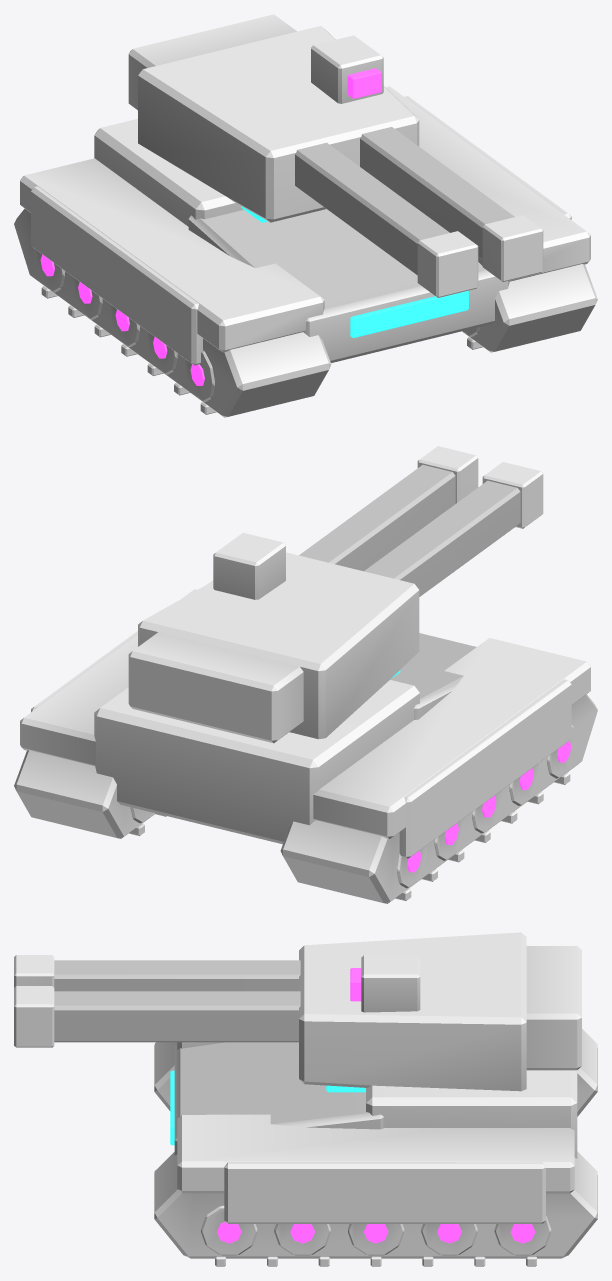
File: e2_siege_tank.glb
3 renders of one model, top to bottom at view 1: azimuth 30°, elevation 25°; view 2: azimuth 150°, elevation 25°; view 3: azimuth 270°, elevation 25°, orthographic. The views are drawn at different scales.
Visible parts, largest first — view 1: TurretBody, Track_L_Fender, HullGlacis, SideSkirt_-1, Track_L_Belt, RailShroud_-0.2, RailShroud_0.2, Track_R_Fender, Track_R_Belt, HullRear, TurretBustle, RailMuzzle_0.2 (+10 smaller); view 2: HullRear, TurretBody, Track_L_Fender, TurretBustle, SideSkirt_-1, Track_L_Belt, RailShroud_-0.2, RailShroud_0.2, Track_R_Belt, Track_R_Fender, TurretSensor, HullGlacis (+4 smaller); view 3: TurretBody, SideSkirt_1, Track_R_Fender, RailShroud_0.2, HullGlacis, Track_R_Belt, HullRear, RailShroud_-0.2, TurretBustle, TurretSensor, RailMuzzle_0.2, Track_L_Belt (+6 smaller).
Boxes of the visible parts, box(x1,y1,x2,y2) form: TurretBody: box(138, 26, 419, 222); Track_L_Fender: box(20, 158, 324, 352); HullGlacis: box(188, 209, 509, 362); SideSkirt_-1: box(31, 186, 202, 365); Track_L_Belt: box(14, 208, 331, 417); RailShroud_-0.2: box(295, 142, 449, 275); RailShroud_0.2: box(360, 127, 514, 259); Track_R_Fender: box(386, 86, 590, 281); Track_R_Belt: box(462, 264, 597, 352); HullRear: box(94, 119, 243, 226); TurretBustle: box(128, 14, 296, 110); RailMuzzle_0.2: box(482, 215, 543, 281); HullRear: box(94, 680, 419, 844); TurretBody: box(138, 552, 419, 739); Track_L_Fender: box(313, 638, 590, 839); TurretBustle: box(128, 632, 303, 743); SideSkirt_-1: box(399, 679, 571, 858); Track_L_Belt: box(280, 694, 597, 903); RailShroud_-0.2: box(364, 480, 520, 596); RailShroud_0.2: box(299, 465, 455, 571); Track_R_Belt: box(14, 750, 155, 838); Track_R_Fender: box(20, 580, 213, 765); TurretSensor: box(213, 532, 285, 599); HullGlacis: box(390, 633, 476, 719); TurretBody: box(299, 932, 526, 1091); SideSkirt_1: box(224, 1162, 545, 1223); Track_R_Fender: box(177, 1114, 574, 1193); RailShroud_0.2: box(54, 991, 300, 1042); HullGlacis: box(174, 1042, 384, 1155); Track_R_Belt: box(154, 1151, 597, 1258); HullRear: box(366, 1070, 577, 1158); RailShroud_-0.2: box(54, 960, 300, 991); TurretBustle: box(526, 946, 581, 1070); TurretSensor: box(361, 955, 420, 1012); RailMuzzle_0.2: box(14, 986, 54, 1047); Track_L_Belt: box(154, 1029, 597, 1116).
Size of the model in its own units: 2.14 by 1.31 by 2.9.
